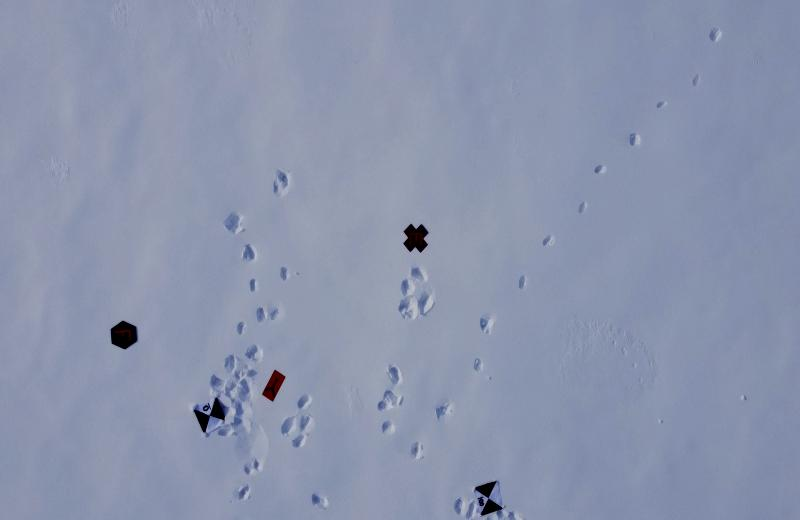Cross: (401, 222, 431, 256)
Hexagon: (110, 318, 138, 351)
Rectangle: (261, 367, 285, 404)
